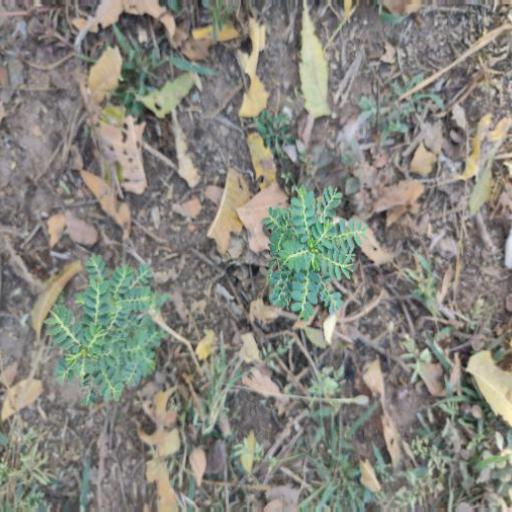weed: (44, 241, 165, 414), (258, 172, 364, 325)
